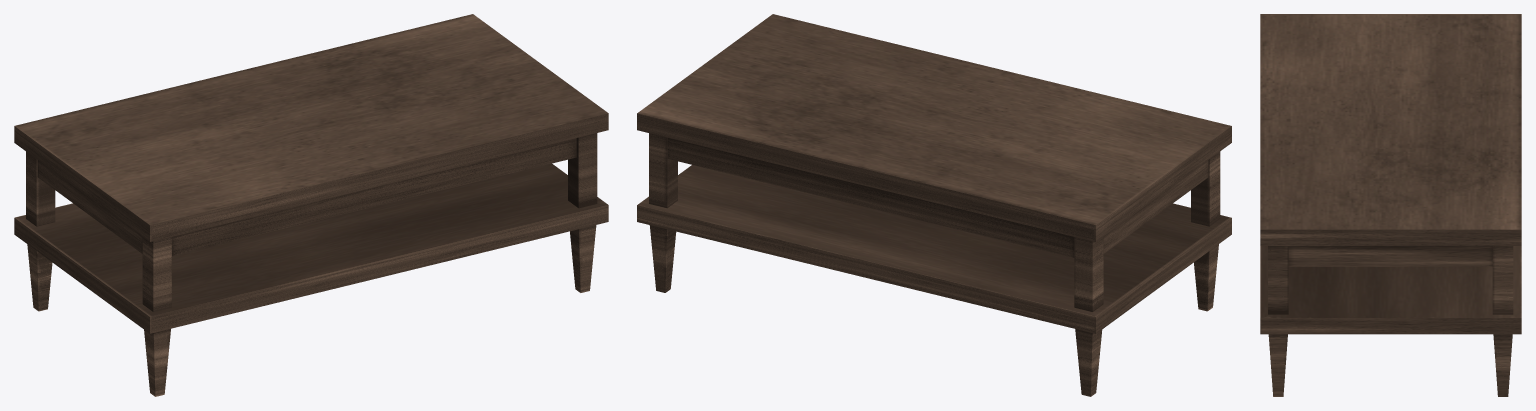
File: table.fbx
3 renders of one model, left to right at view 1: azimuth 30°, elevation 25°; view 2: azimuth 150°, elevation 25°; view 3: azimuth 270°, elevation 25°, orthographic. The views are drawn at different scales.
Visible parts, largest first — view 1: Table; view 2: Table; view 3: Table.
Part boxes in pixels (left/top/right/bottom): Table: left=14, top=14, right=608, bottom=396; Table: left=637, top=14, right=1231, bottom=396; Table: left=1260, top=14, right=1521, bottom=396.
Bounding box in the file's own units: 144 × 53.96 × 73.9.
1 material, 1 textured.
